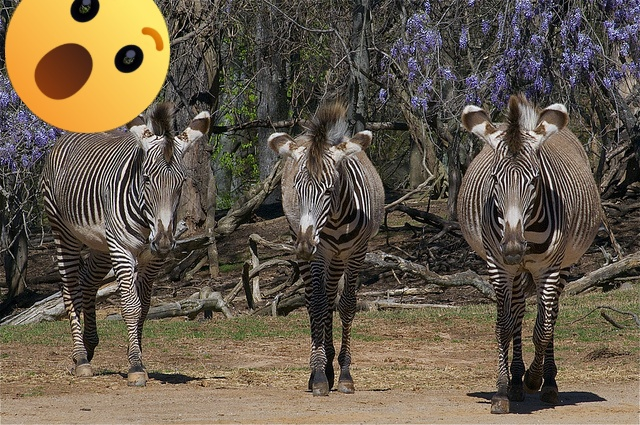wow: (5, 0, 170, 133)
